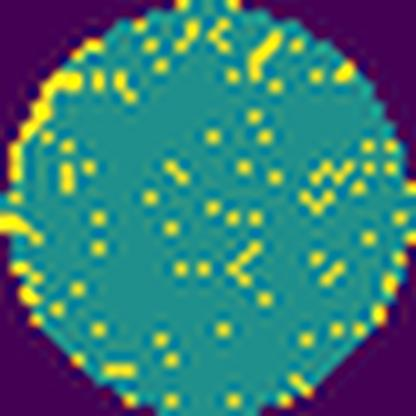Edge-Loc: (1, 65, 88, 183), (0, 213, 50, 248)
